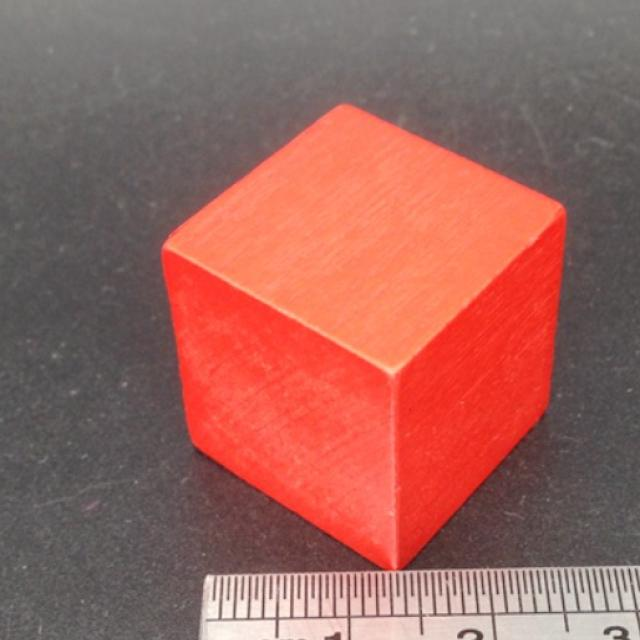red cube: (161, 105, 568, 574)
